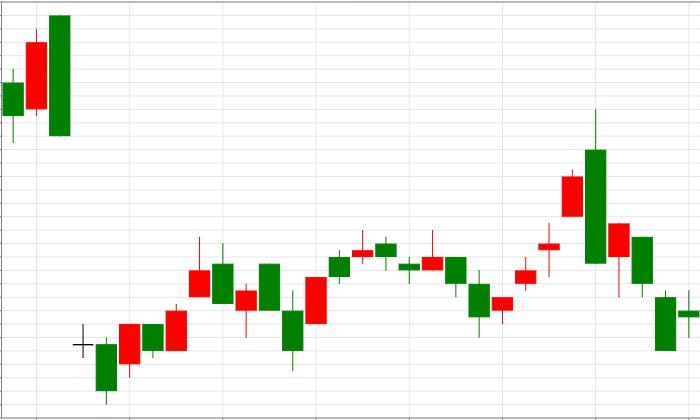bearish_engulfing_fall: (492, 110, 607, 325)
